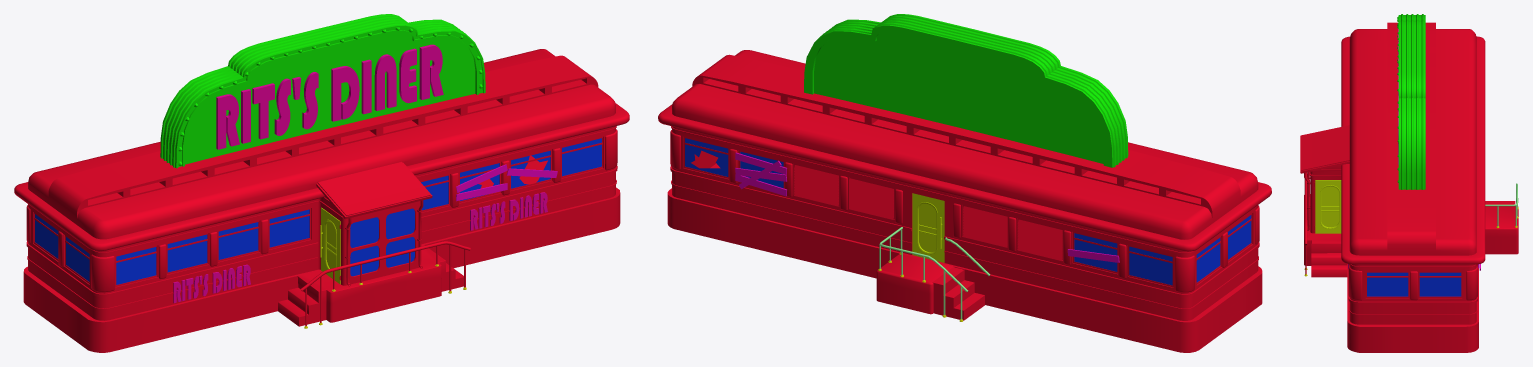
File: Restaurant.fbx
3 views of the same model, side by side, from view 1: azimuth 30°, elevation 25°; view 2: azimuth 150°, elevation 25°; view 3: azimuth 270°, elevation 25° (orthographic). The views are drawn at different scales.
Parts seen in each view (by area): view 1: Cube.008, FrontDoor.R; view 2: Cube.008, Backdoor; view 3: Cube.008, FrontDoor.L.
Boxes of the visible parts, x1,y1,x2,y2 form: Cube.008: (14,14,629,352); FrontDoor.R: (320,207,340,284); Cube.008: (658,14,1271,352); Backdoor: (912,193,944,262); Cube.008: (1300,14,1518,352); FrontDoor.L: (1315,180,1341,233).
Bounding box in the file's own units: 2107 × 854 × 870.
